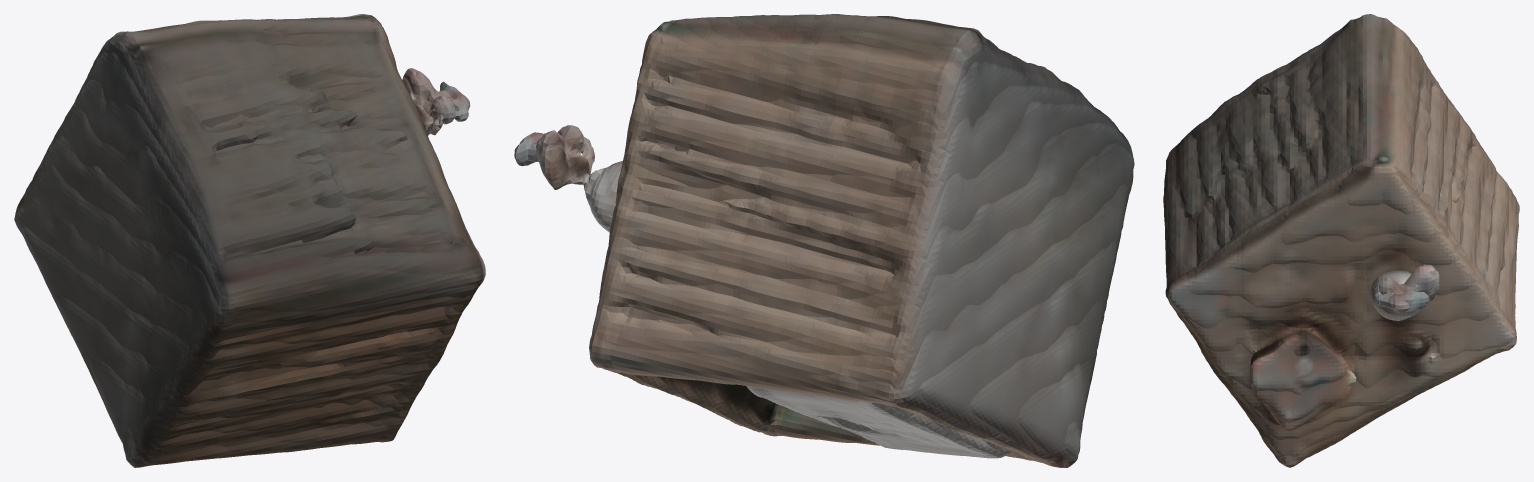
Rendered from cascade-night-stand-new.glb.
The picture shows the model from 3 angles, left to right: view 1: azimuth 30°, elevation 25°; view 2: azimuth 150°, elevation 25°; view 3: azimuth 270°, elevation 25°; orthographic projection. The views are drawn at different scales.
Parts seen in each view (by area): view 1: orient; view 2: orient; view 3: orient.
Part boxes in pixels (x1=…): orient: x1=14, y1=14, x2=485, y2=467; orient: x1=514, y1=14, x2=1134, y2=467; orient: x1=1163, y1=14, x2=1519, y2=467.
Bounding box in the file's own units: 0.45 × 0.45 × 0.4.
